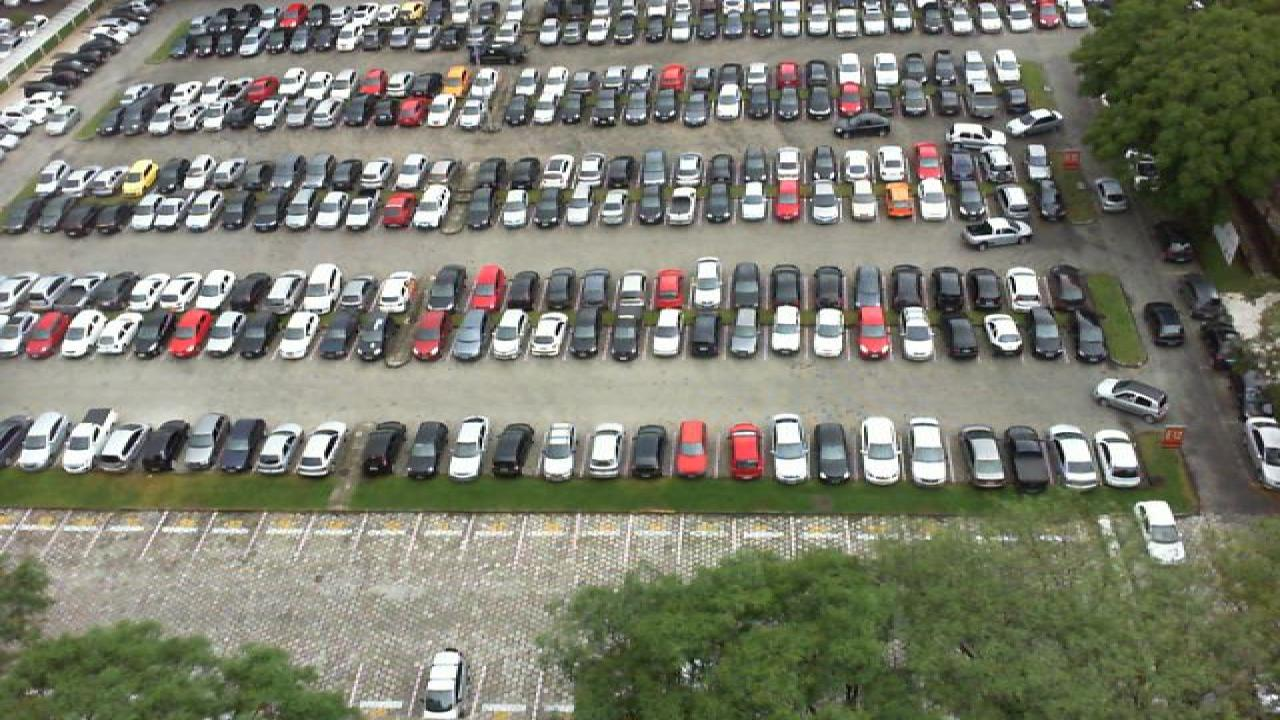Car: (1134, 501, 1186, 564), (1094, 378, 1170, 421), (906, 415, 952, 486), (62, 409, 112, 472), (1004, 426, 1054, 489), (16, 413, 70, 471), (420, 648, 464, 719), (770, 414, 814, 485), (860, 416, 904, 487), (958, 424, 1006, 489), (1052, 426, 1102, 488), (1096, 428, 1146, 489), (1242, 417, 1280, 490), (144, 420, 196, 472), (258, 425, 312, 475), (298, 422, 348, 475), (446, 418, 488, 480), (812, 422, 852, 487), (222, 414, 264, 474), (724, 423, 766, 483), (100, 423, 150, 473), (960, 217, 1034, 250), (406, 422, 448, 480), (362, 422, 406, 477), (186, 414, 228, 471), (60, 308, 106, 358), (808, 303, 848, 360), (896, 305, 936, 362), (24, 309, 68, 360), (492, 422, 530, 481), (586, 424, 624, 483), (1070, 307, 1110, 363), (170, 307, 212, 360), (276, 310, 320, 360), (854, 304, 892, 361), (542, 423, 578, 483), (626, 422, 662, 482), (674, 420, 710, 480), (1028, 305, 1066, 361), (408, 310, 450, 360), (450, 309, 490, 361), (488, 308, 528, 360), (940, 309, 980, 361), (100, 309, 142, 358), (608, 309, 648, 360), (526, 312, 568, 360), (1048, 264, 1090, 312), (648, 307, 686, 360), (304, 261, 342, 314), (688, 256, 726, 308), (768, 305, 804, 359), (244, 313, 286, 359), (984, 313, 1026, 359), (1144, 302, 1186, 348), (688, 307, 724, 360), (136, 309, 174, 359), (318, 311, 356, 361), (354, 311, 392, 361), (568, 310, 606, 360), (210, 313, 250, 359), (890, 264, 930, 310), (1006, 266, 1046, 312), (728, 306, 762, 359), (1004, 108, 1066, 137), (470, 263, 506, 312), (968, 268, 1008, 312), (34, 271, 76, 312), (72, 271, 112, 313), (108, 272, 150, 312), (190, 268, 228, 312), (850, 264, 888, 308), (932, 266, 970, 310), (766, 262, 802, 308), (808, 262, 844, 308), (0, 272, 40, 313), (150, 269, 190, 310), (338, 271, 376, 314), (430, 270, 468, 313), (730, 262, 764, 310), (508, 268, 544, 312), (582, 268, 618, 312), (946, 123, 998, 153), (832, 112, 892, 138), (376, 270, 412, 313), (230, 270, 266, 312), (268, 271, 304, 313), (546, 268, 580, 312), (620, 269, 654, 310), (654, 268, 688, 309), (1096, 178, 1130, 214)
